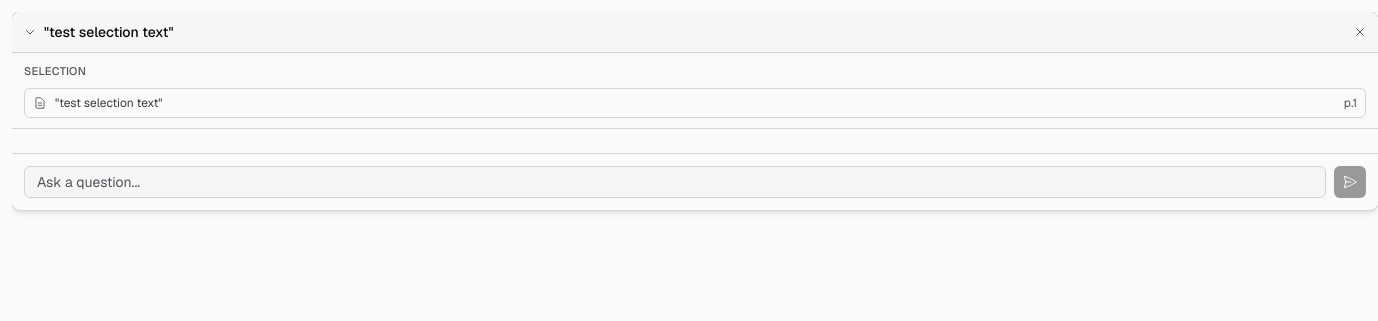
AIPopover › streaming › displays streamed content incrementally
The image size is (1378, 321).
Step 1. Type "test" into the field with placeholder "Ask a question..." → (675, 182), box [24, 166, 1326, 198]
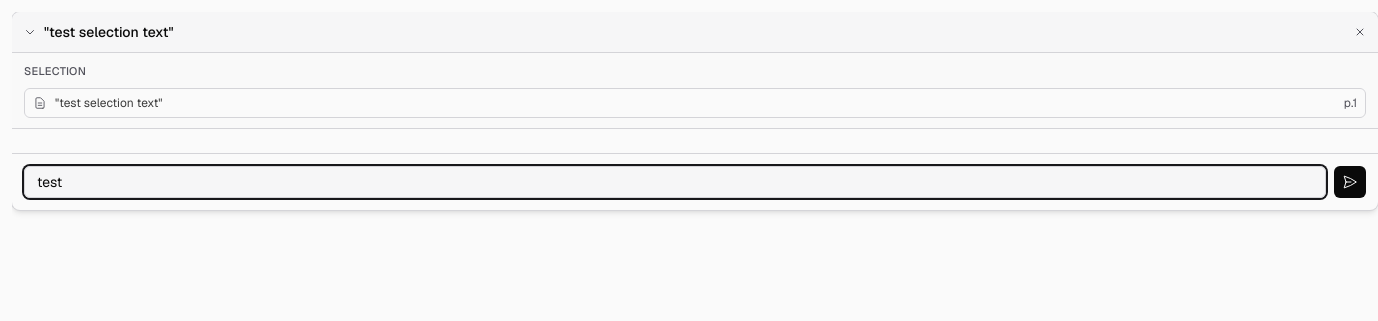
Step 2. Submit the form with placeholder "Ask a question...", box [12, 152, 1377, 210]
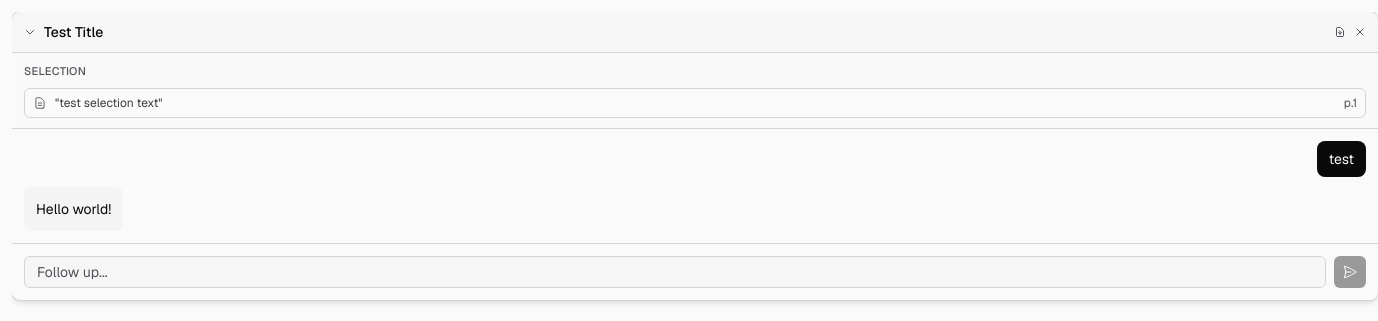
Expected: the text "Hello world!" is shown, [36, 198, 111, 218]
